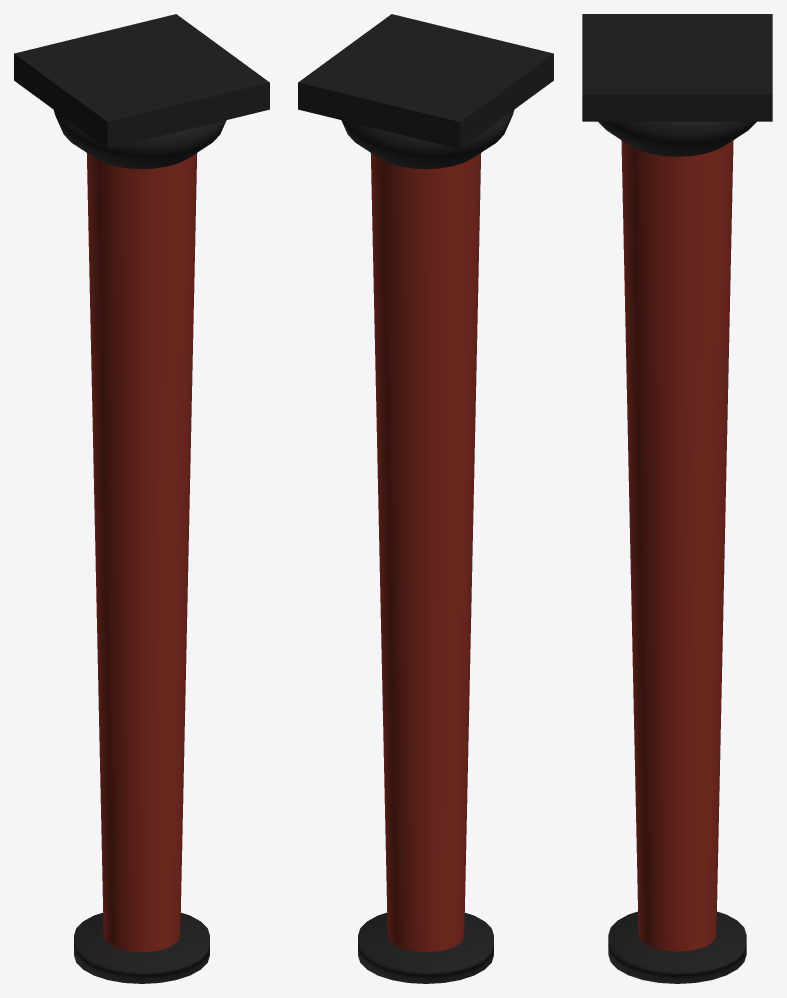
The model's file is column.glb.
3 renders of one model, left to right at view 1: azimuth 30°, elevation 25°; view 2: azimuth 150°, elevation 25°; view 3: azimuth 270°, elevation 25°, orthographic.
Parts seen in each view (by area): view 1: part_1, part_0; view 2: part_1, part_0; view 3: part_1, part_0.
Boxes of the visible parts, <box> form: part_1: <box>86,153,197,951</box>; part_0: <box>14,14,269,983</box>; part_1: <box>370,153,481,951</box>; part_0: <box>298,14,553,983</box>; part_1: <box>621,140,733,951</box>; part_0: <box>582,14,772,983</box>.
Bounding box in the file's own units: 0.44 × 2.3 × 0.44.
